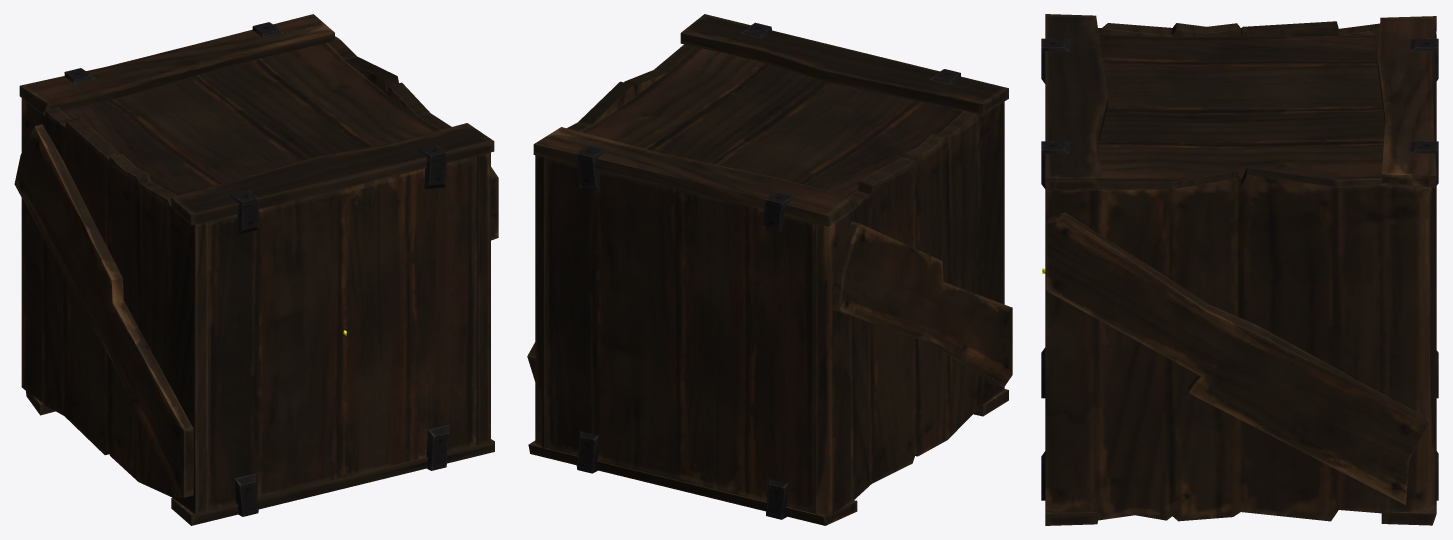
Rendered from BoxWood.obj.
3 renders of one model, left to right at view 1: azimuth 30°, elevation 25°; view 2: azimuth 150°, elevation 25°; view 3: azimuth 270°, elevation 25°, orthographic. The views are drawn at different scales.
Parts seen in each view (by area): view 1: Bottom__Mt_Wood_BoxWood_A_01, kanagu1__Mt_Wood_BoxWood_A_02; view 2: Bottom__Mt_Wood_BoxWood_A_01, kanagu1__Mt_Wood_BoxWood_A_02; view 3: Bottom__Mt_Wood_BoxWood_A_01, kanagu1__Mt_Wood_BoxWood_A_02.
Part boxes in pixels (x1,y1,x2,y2): Bottom__Mt_Wood_BoxWood_A_01: (14, 14, 498, 525); kanagu1__Mt_Wood_BoxWood_A_02: (64, 22, 449, 516); Bottom__Mt_Wood_BoxWood_A_01: (527, 14, 1012, 525); kanagu1__Mt_Wood_BoxWood_A_02: (576, 22, 960, 519); Bottom__Mt_Wood_BoxWood_A_01: (1045, 14, 1436, 525); kanagu1__Mt_Wood_BoxWood_A_02: (1041, 38, 1438, 500).
Bounding box in the file's own units: 2.08 × 1.98 × 2.03.
3 materials, 2 textured.
